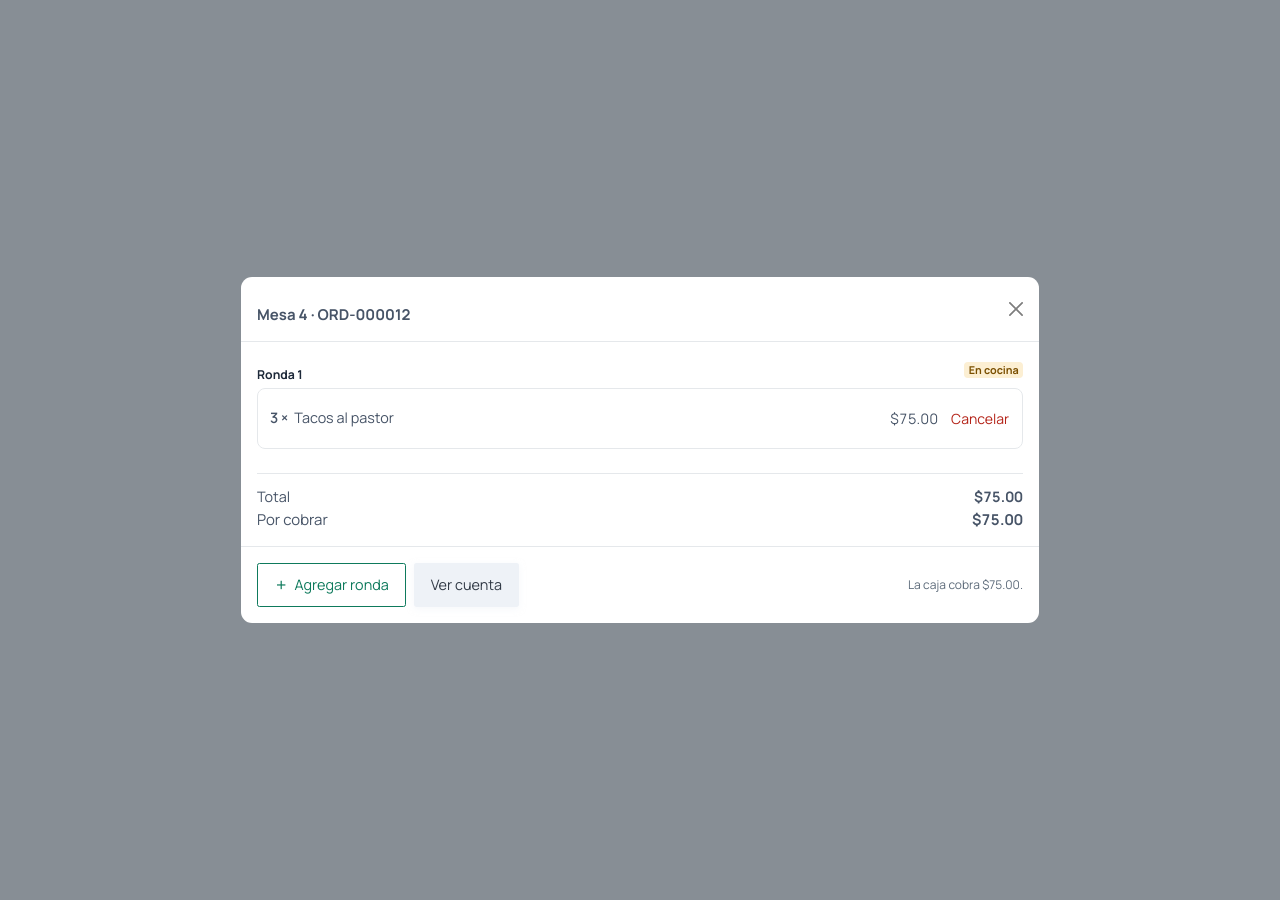
TabPanel › shows where each round is and cancels a dish with its reason, back to stock while the kitchen has not started
Check: the text "En cocina" is shown, box [964,362,1023,378]
Click the button with aria-label "Cancelar Tacos al pastor" at (980, 418), box [950,407,1010,430]
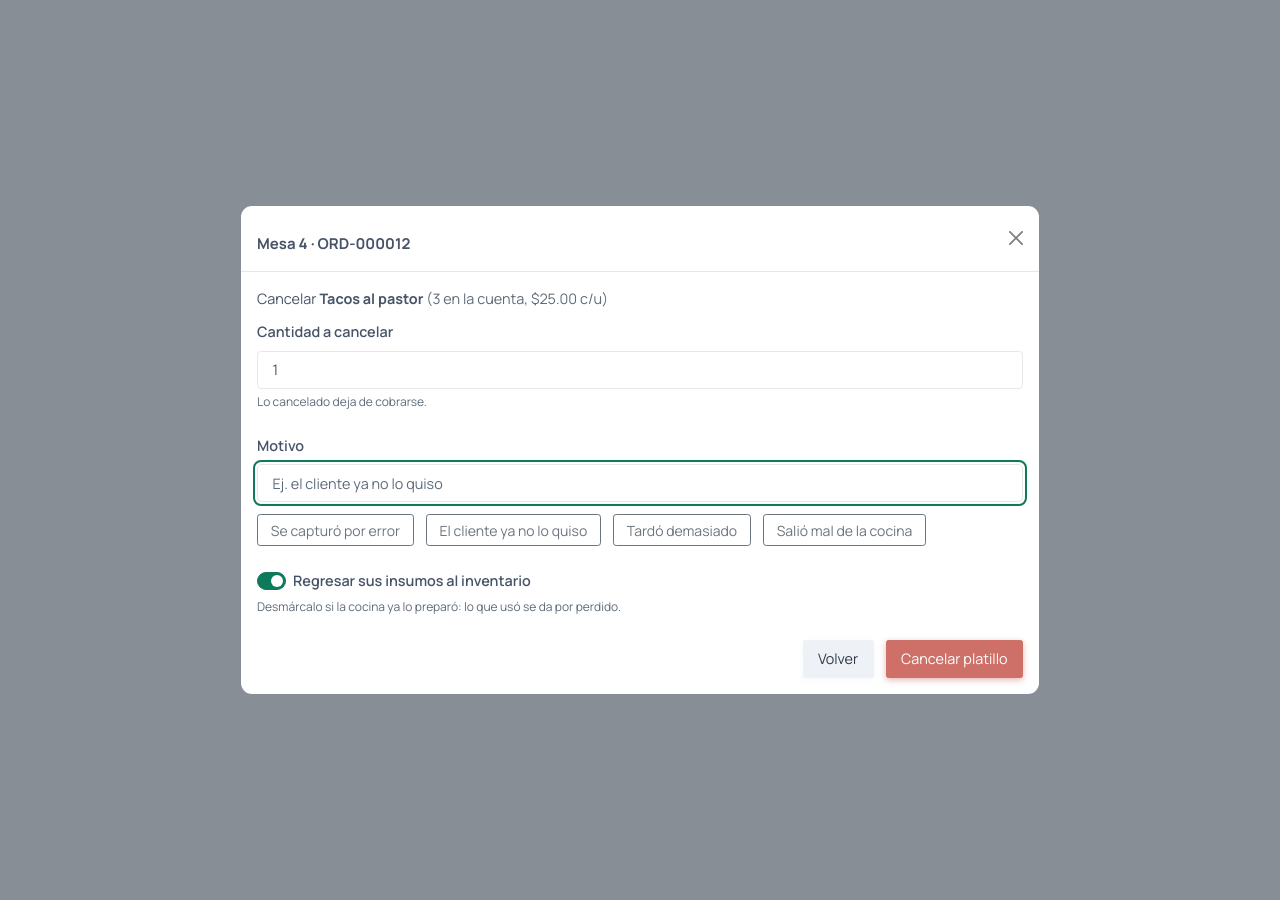
Click the button "El cliente ya no lo quiso" at (513, 530), box [426,514,601,546]
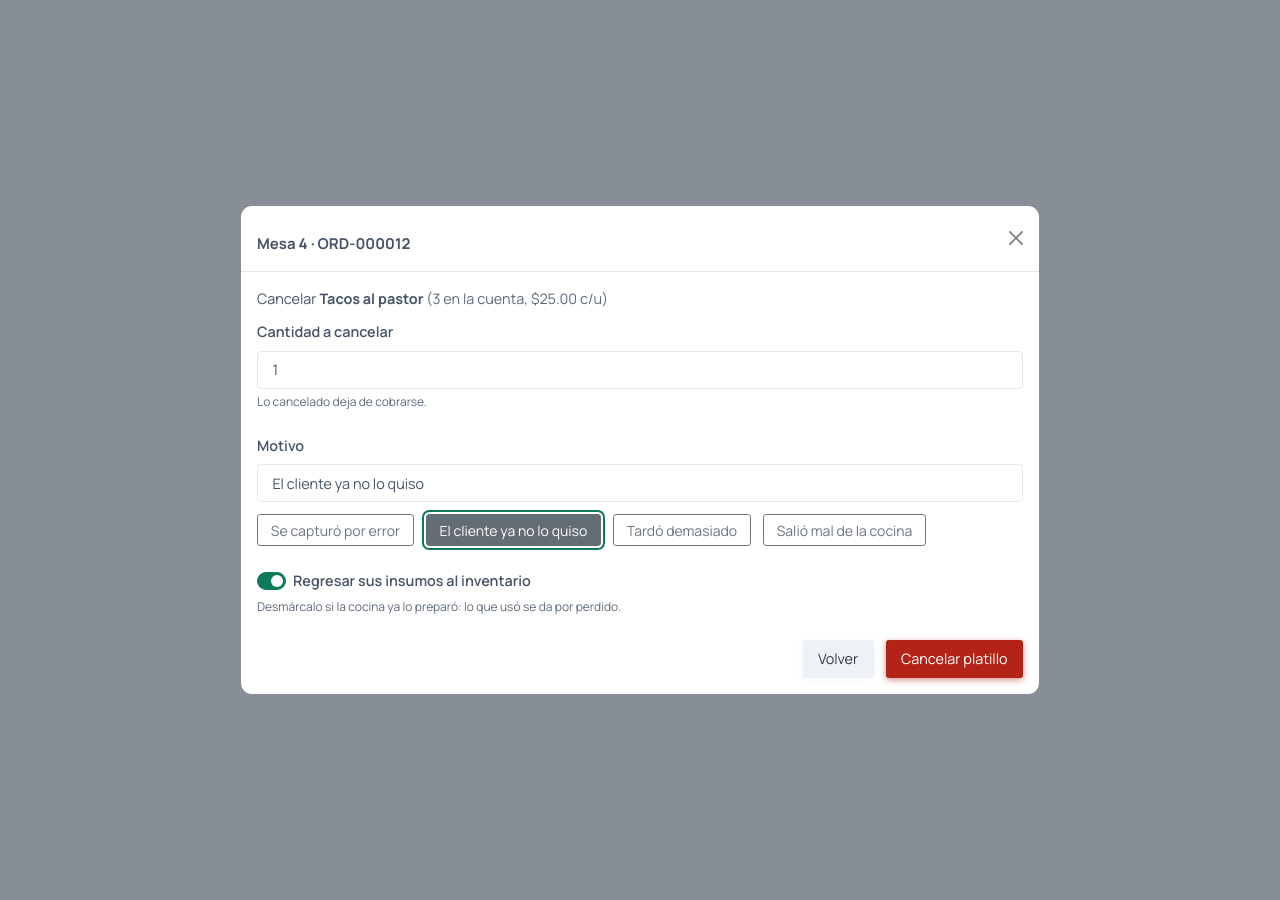
Click the button "Cancelar platillo" at (954, 659), box [886,640,1023,678]
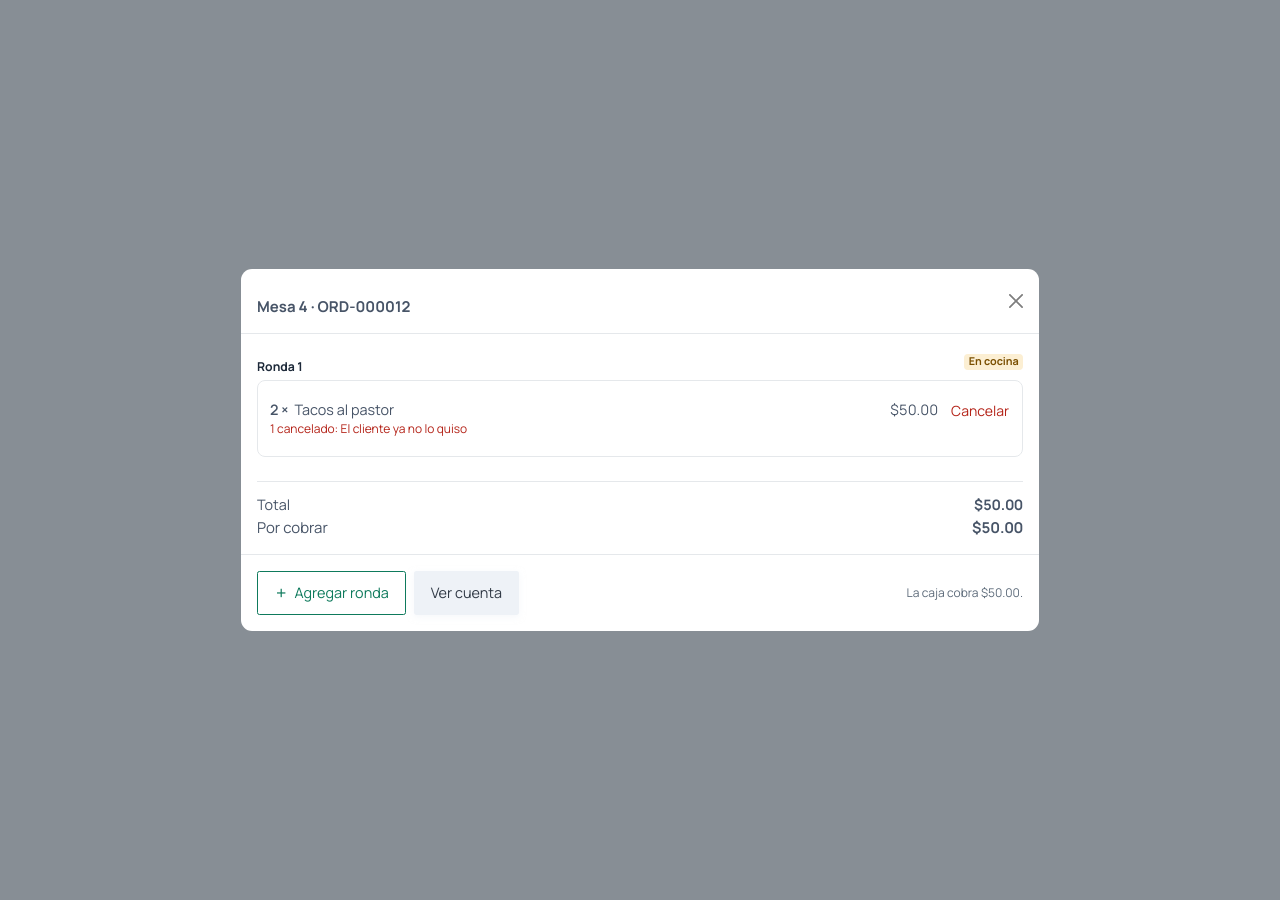
Check: the text "1 cancelado: El cliente ya no lo quiso" is shown, box [270,420,467,438]
Check: the text "$50.00" in the row of "2 ×" is shown, box [890,400,938,419]
